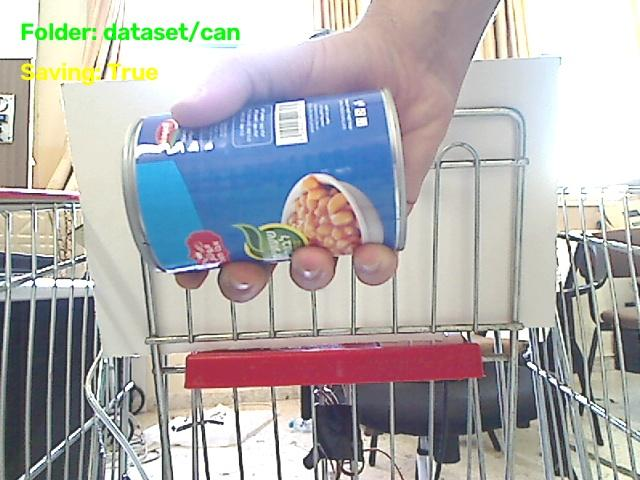can: (123, 90, 405, 272)
